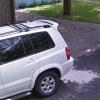Car: (2, 17, 76, 99)
